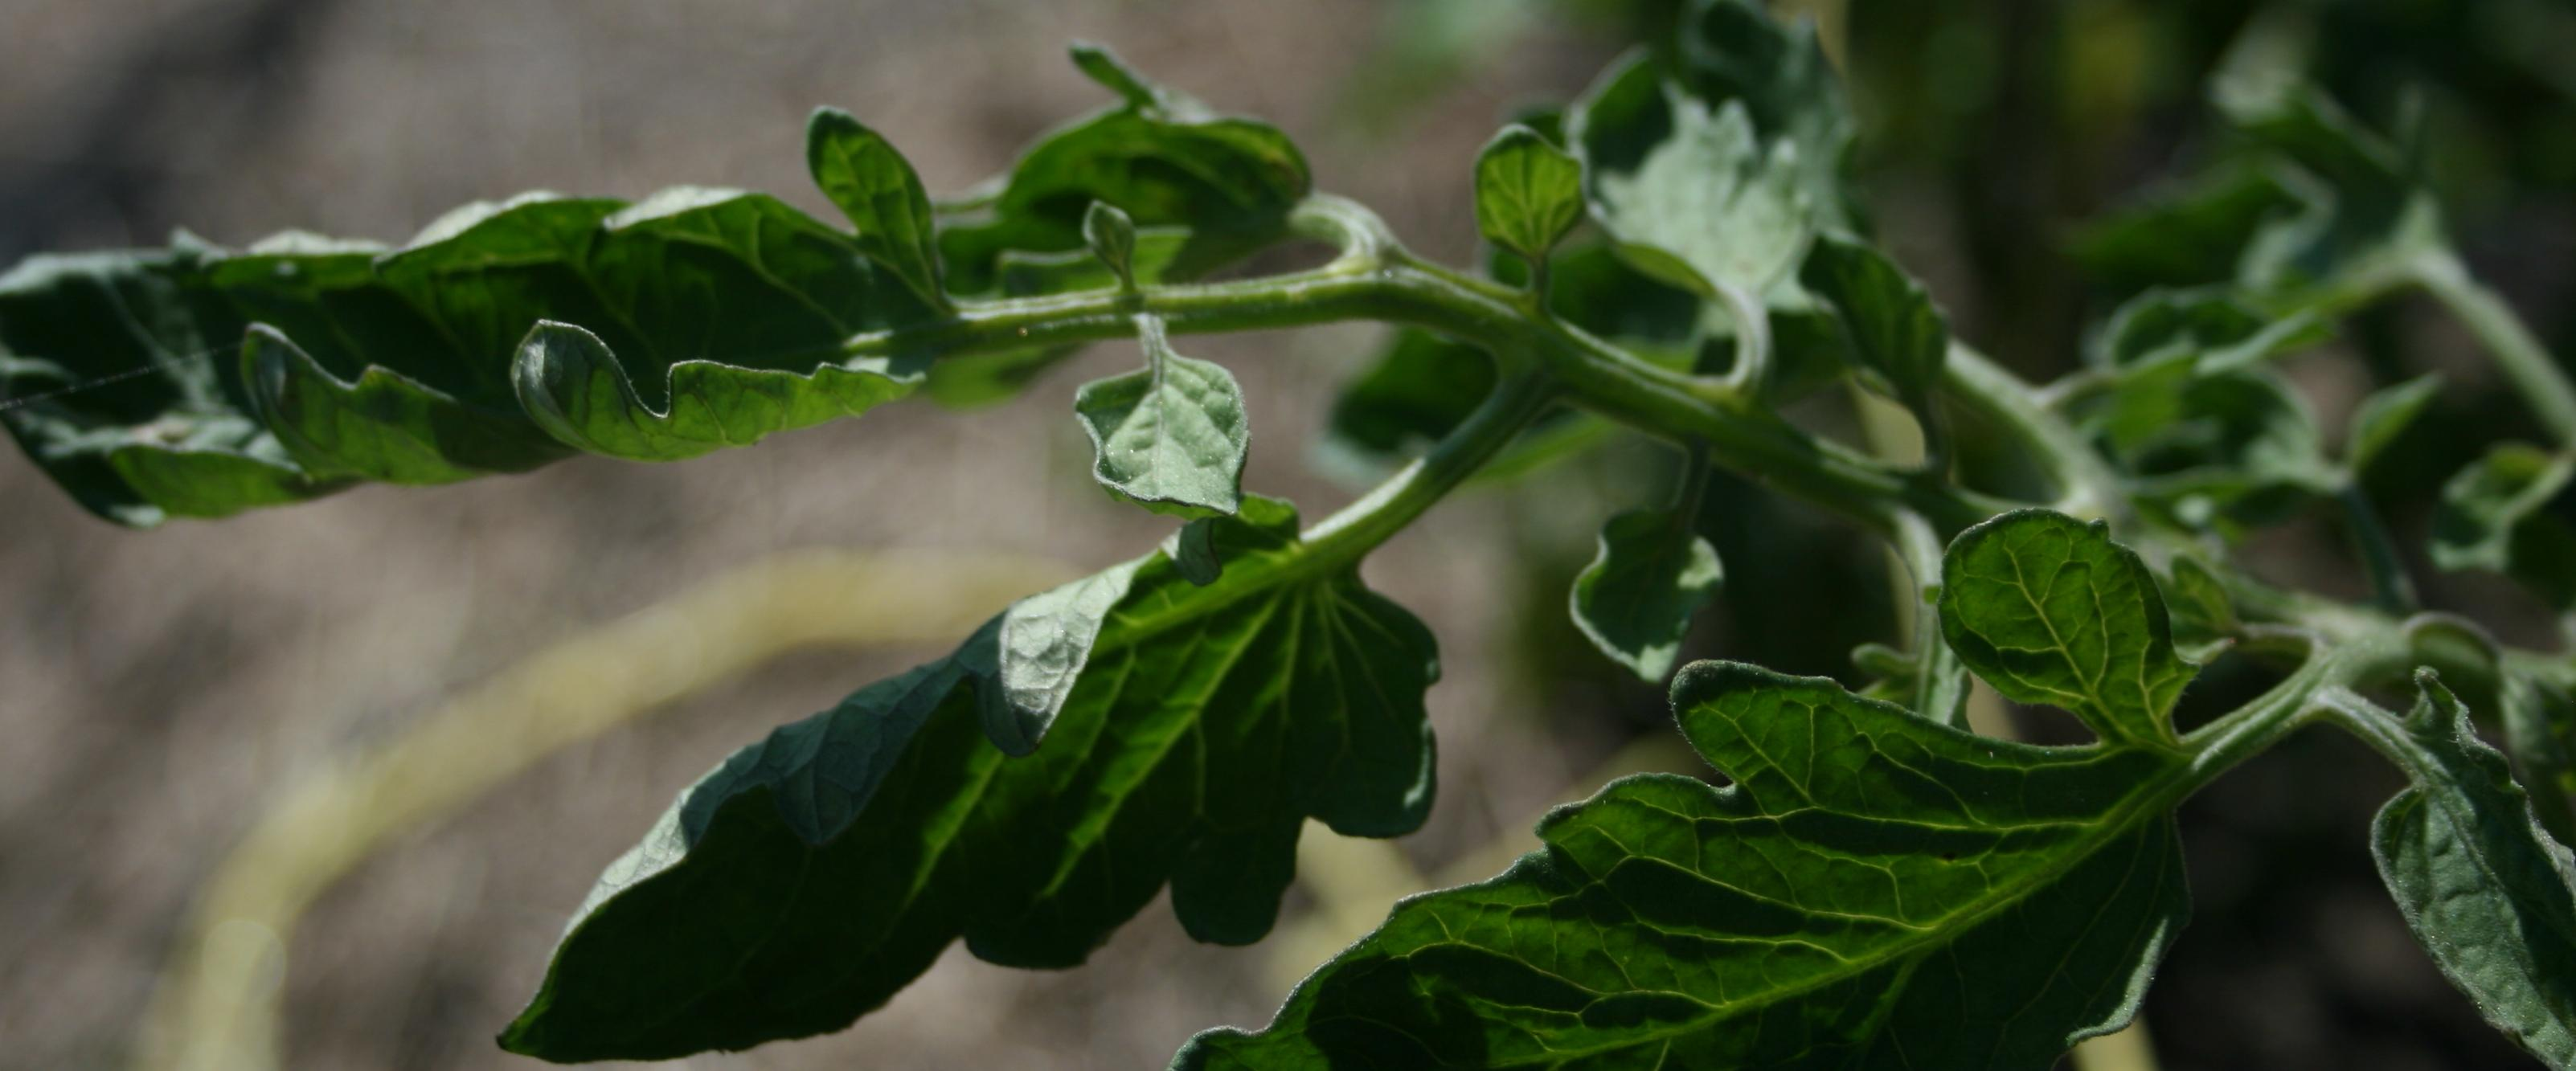Tomato leaf: (506, 488, 1417, 1071), (0, 78, 1104, 556), (1169, 625, 2271, 1071)
